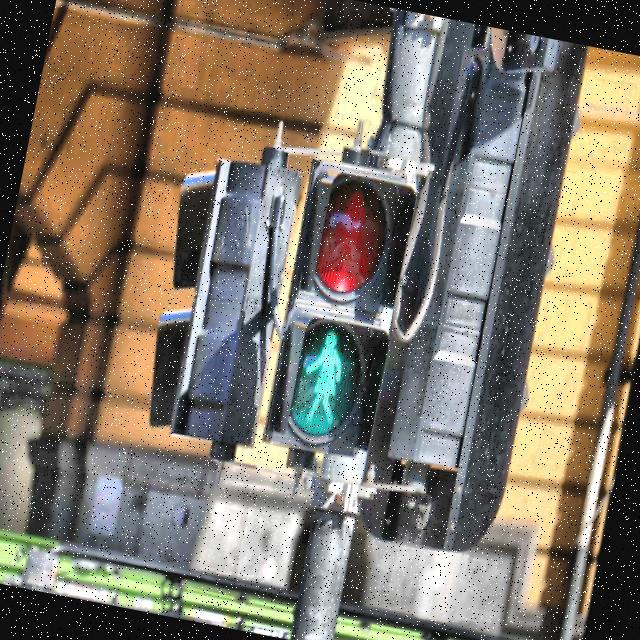green_light: (294, 324, 354, 431)
